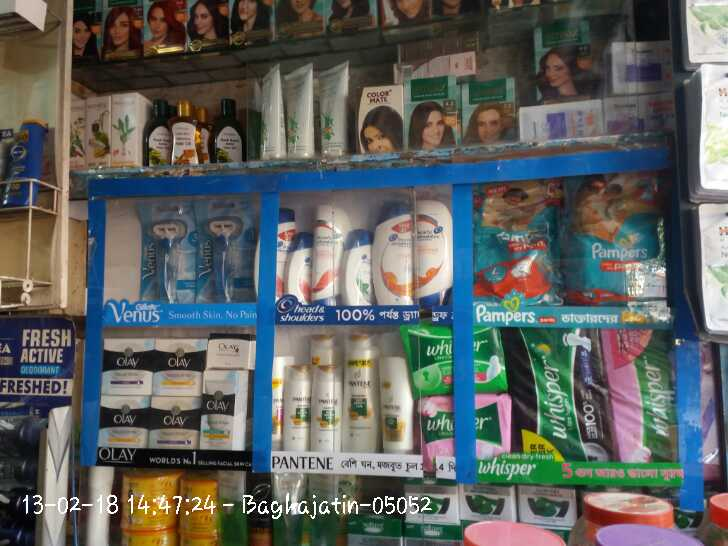venus: (194, 194, 252, 300), (144, 202, 194, 300)
